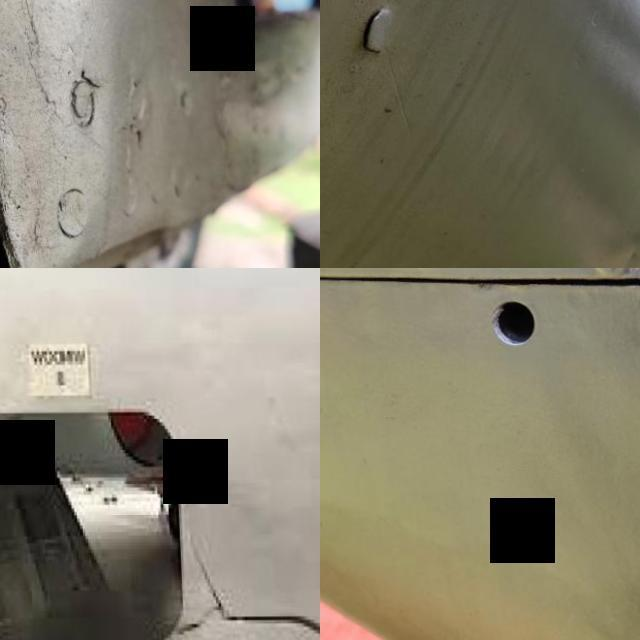Crack: (201, 550, 320, 640), (0, 108, 48, 268), (342, 0, 413, 66)
Missing_Fastener: (450, 268, 573, 389)
